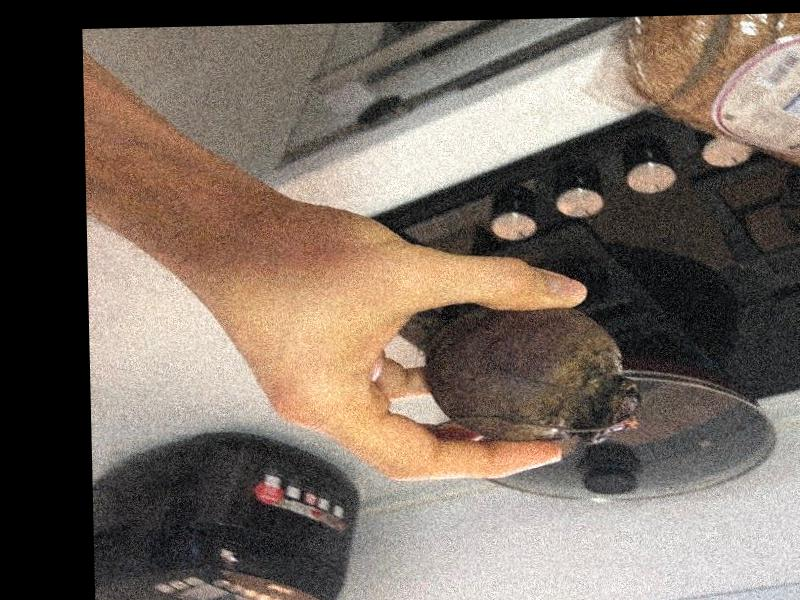Beet: (410, 304, 642, 444)
